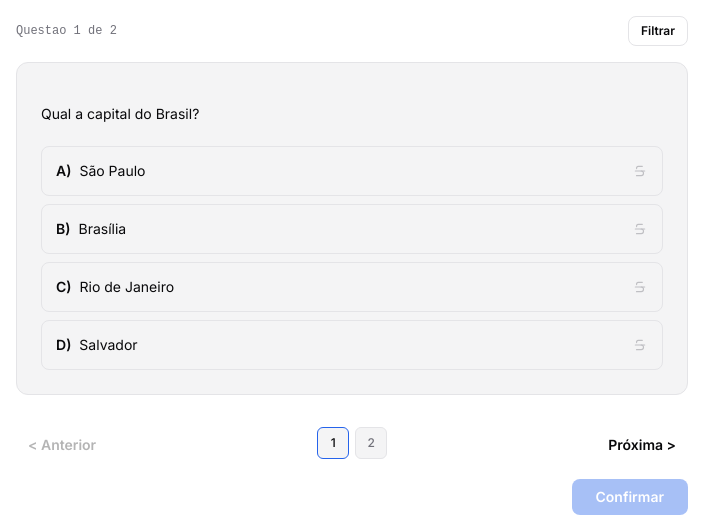
QuestionsTab › selects option and confirms answer
The image size is (705, 532).
Step 1. Click the button "B)Brasília" → (102, 228), box x1=41 y1=204 x2=663 y2=254
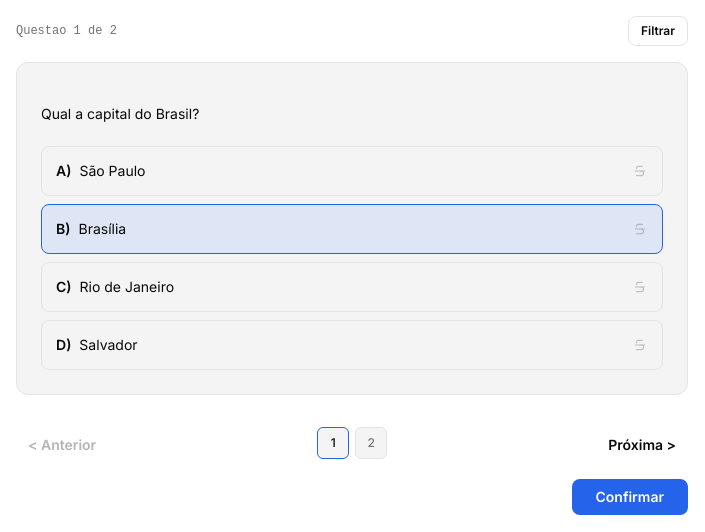
Step 2. Click the button "Confirmar" → (630, 497), box x1=572 y1=479 x2=688 y2=515
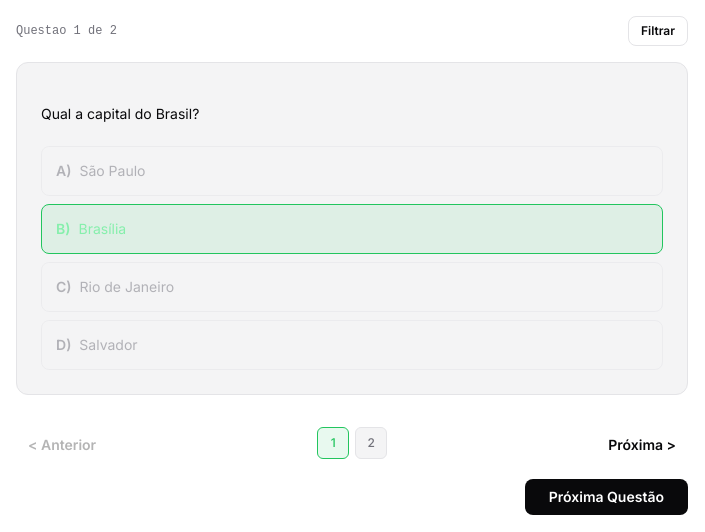
Result: the button "Próxima Questão" is shown at x1=525 y1=479 x2=688 y2=515
